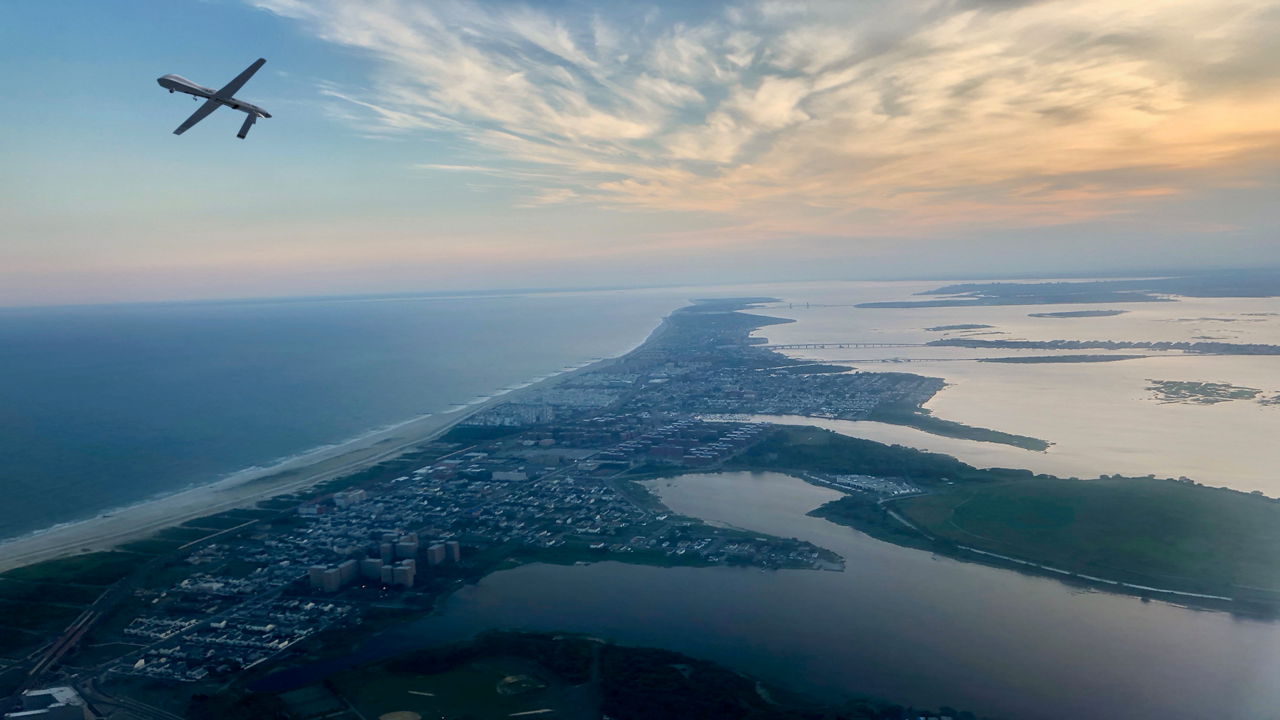military drone: (156, 57, 272, 139)
